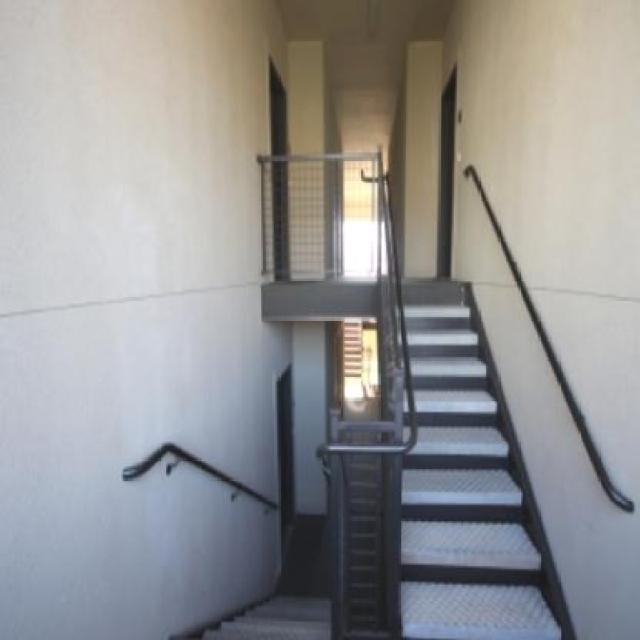stair: (162, 170, 568, 639)
